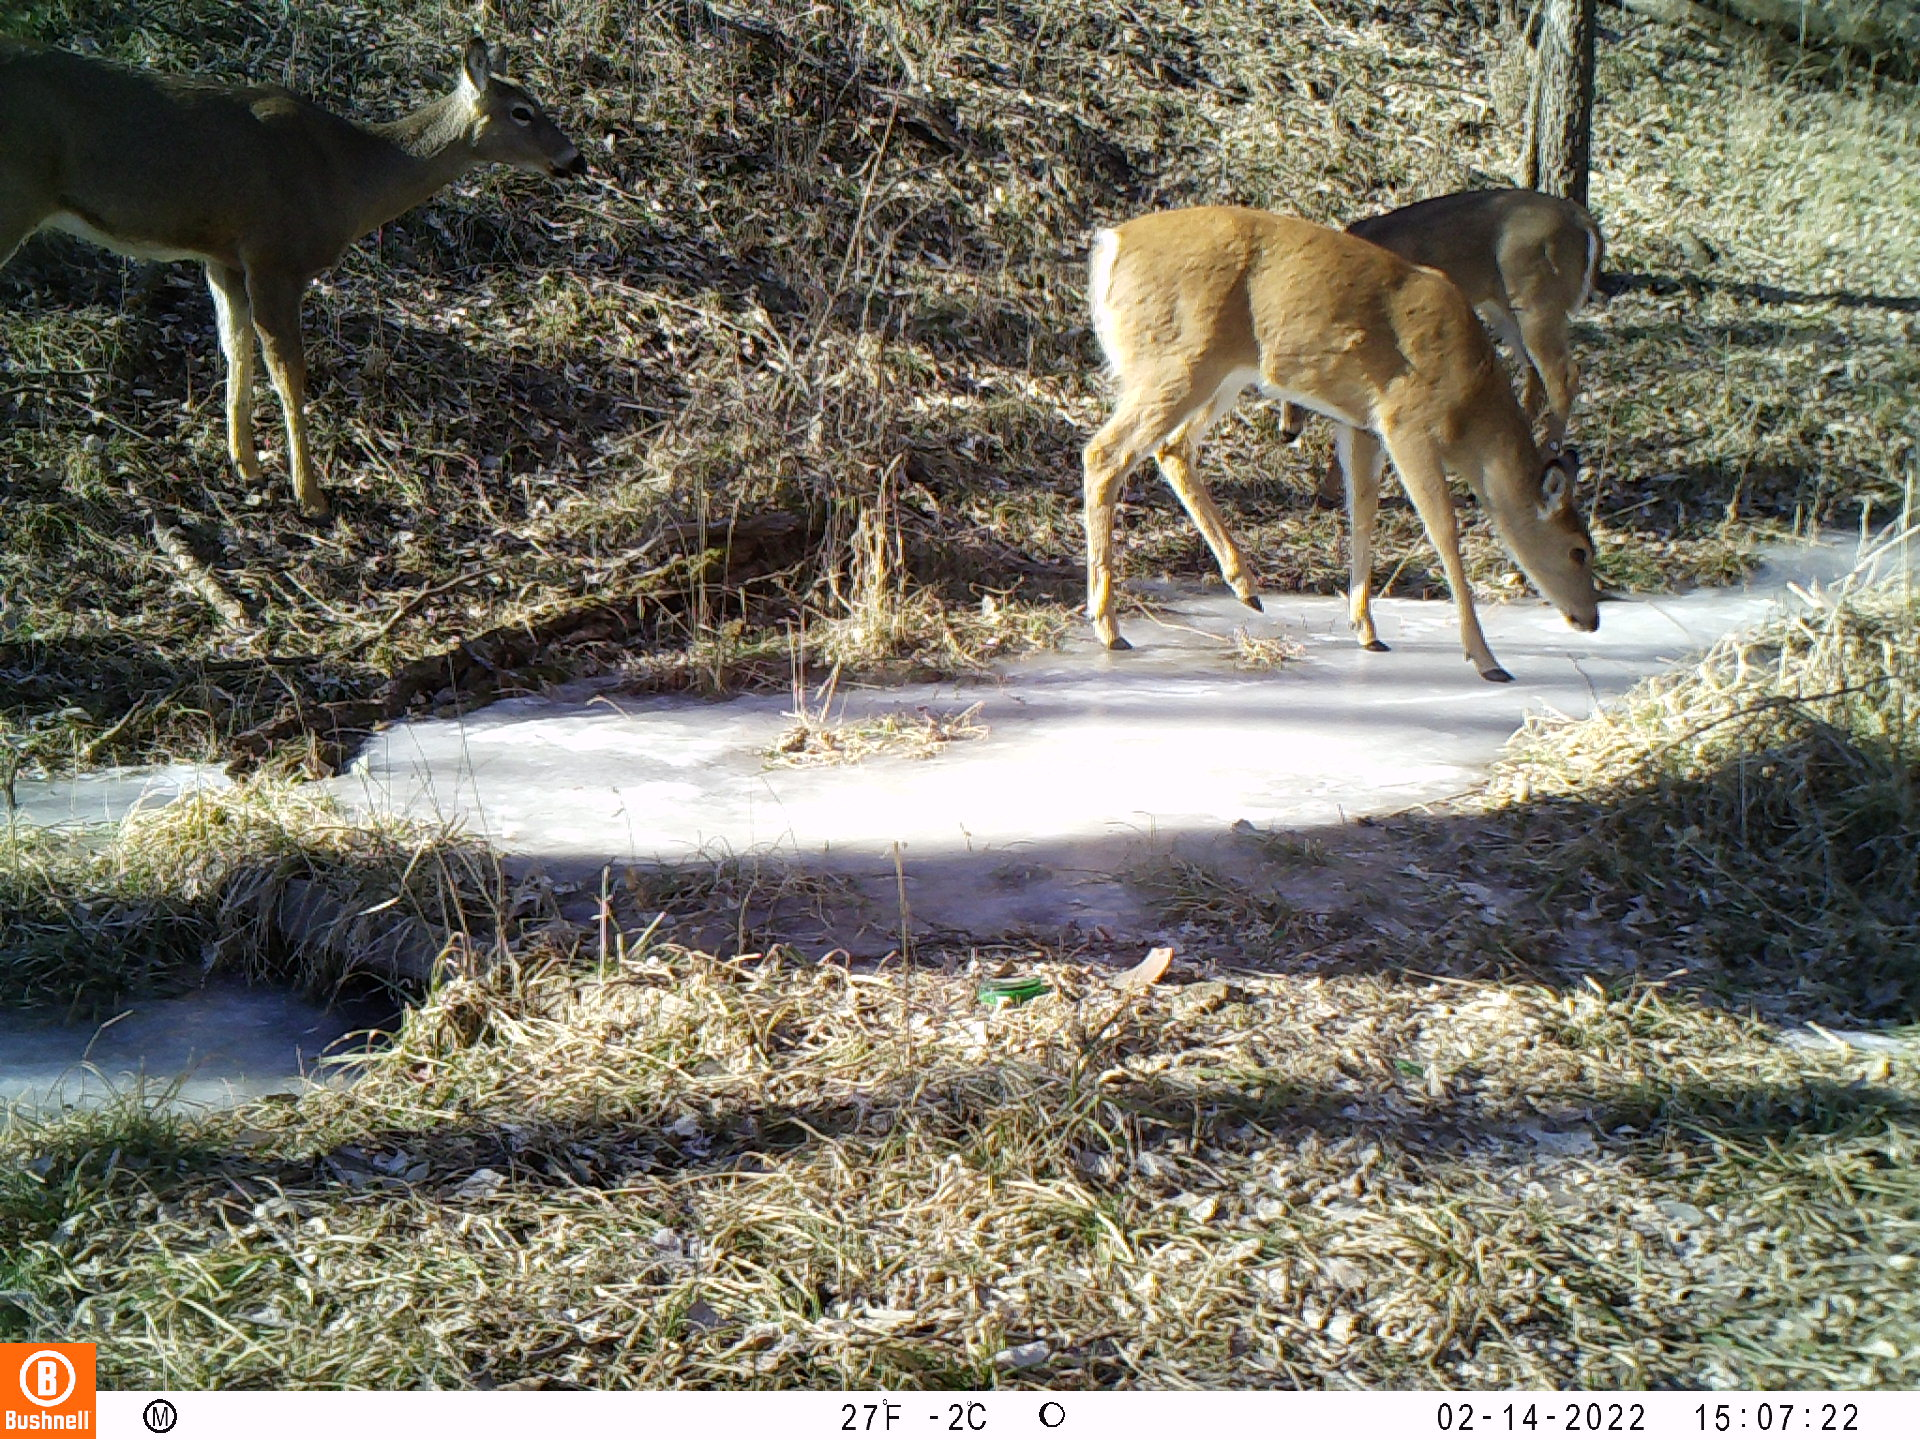Deer: (1276, 186, 1601, 460)
DeerDoe: (2, 33, 590, 508), (1079, 206, 1603, 685)
